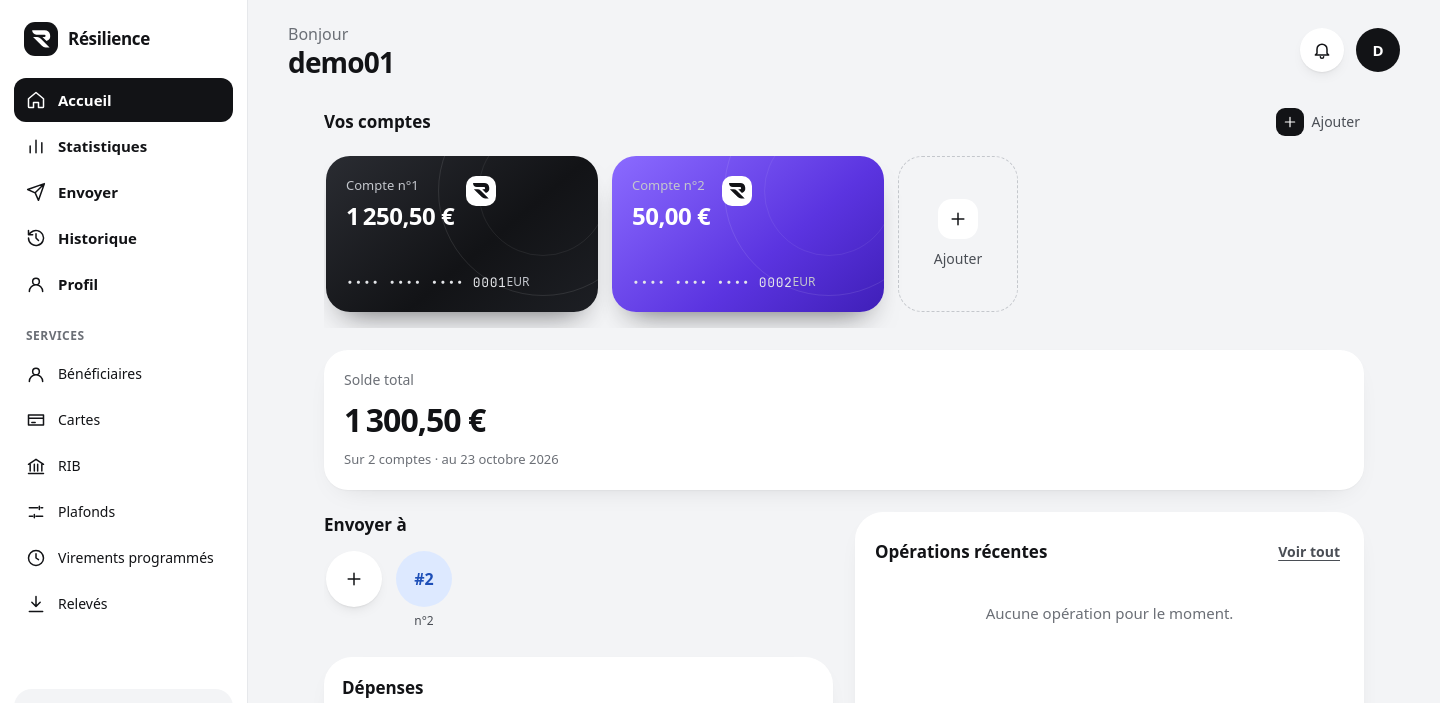
Front - espace client › RIB : choix du compte depuis la carte de l’accueil
The image size is (1440, 703).
Click the button with aria-label "Compte n°2, solde": x=748, y=234 [612,156,884,312]
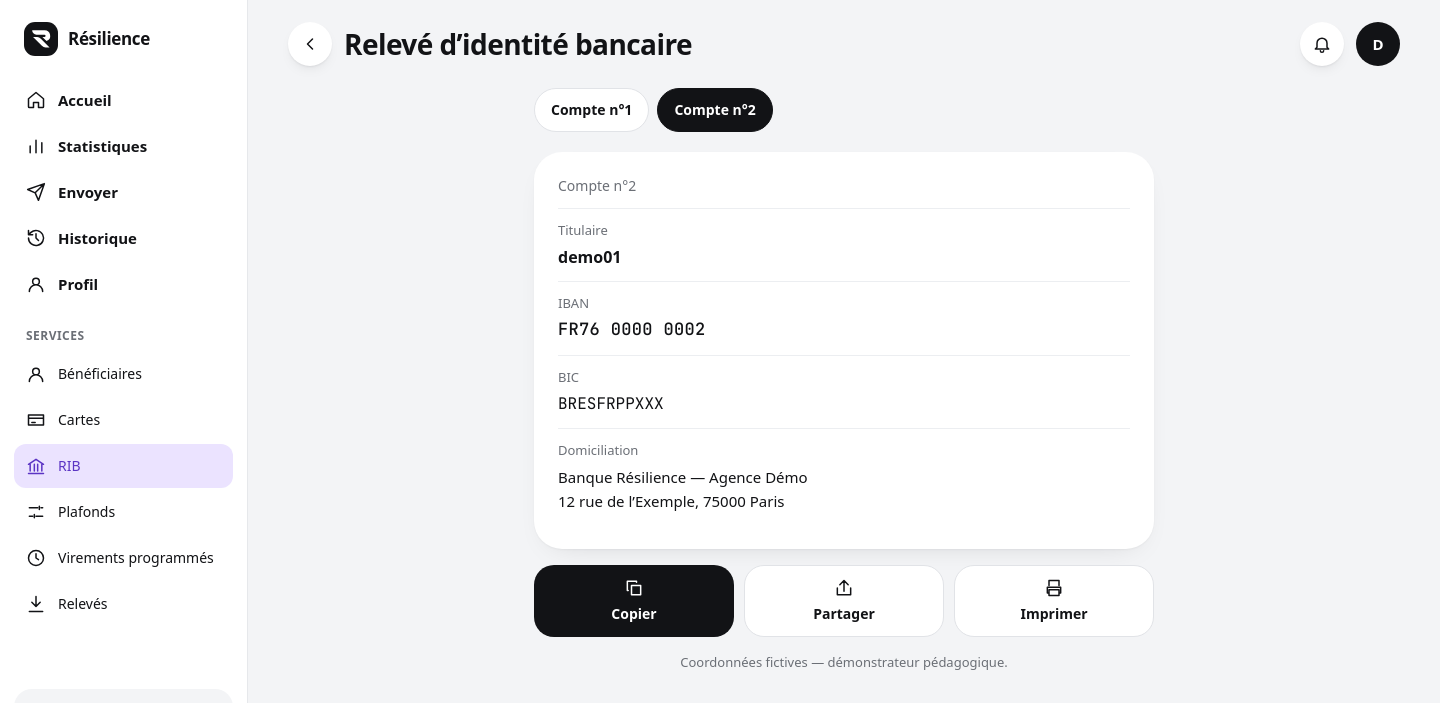
Expected: the heading "Relevé d’identité bancaire" is shown, [344,25,692,63]
Expected: the element named "RIB du Compte n°2" shows "FR76 0000 0002", [558,318,706,340]
